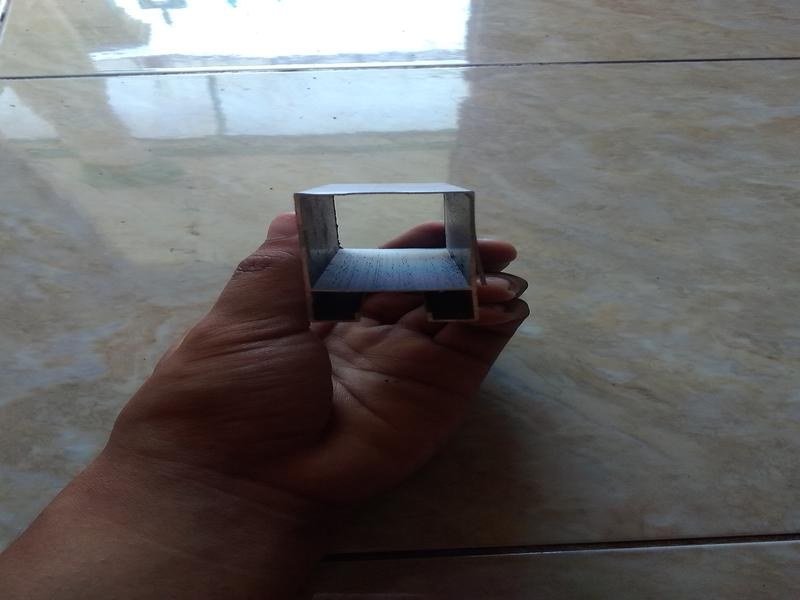Aluminium_1: (285, 169, 492, 335)
